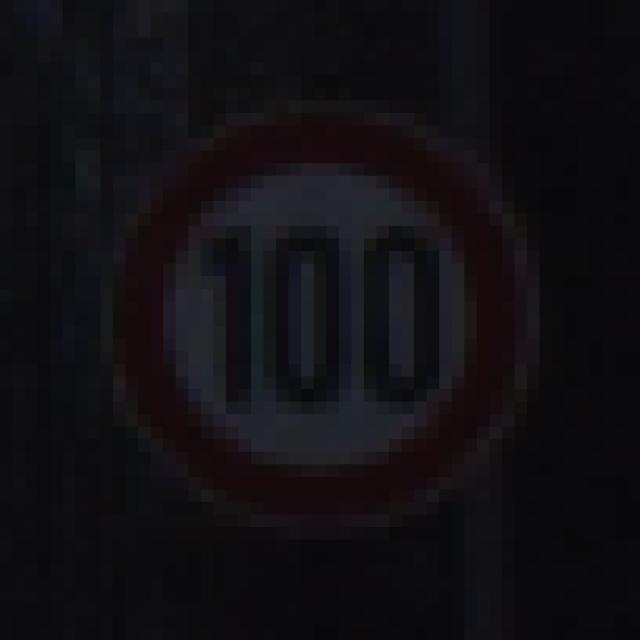Ograniczenie predkosci do 100: (113, 116, 526, 524)
